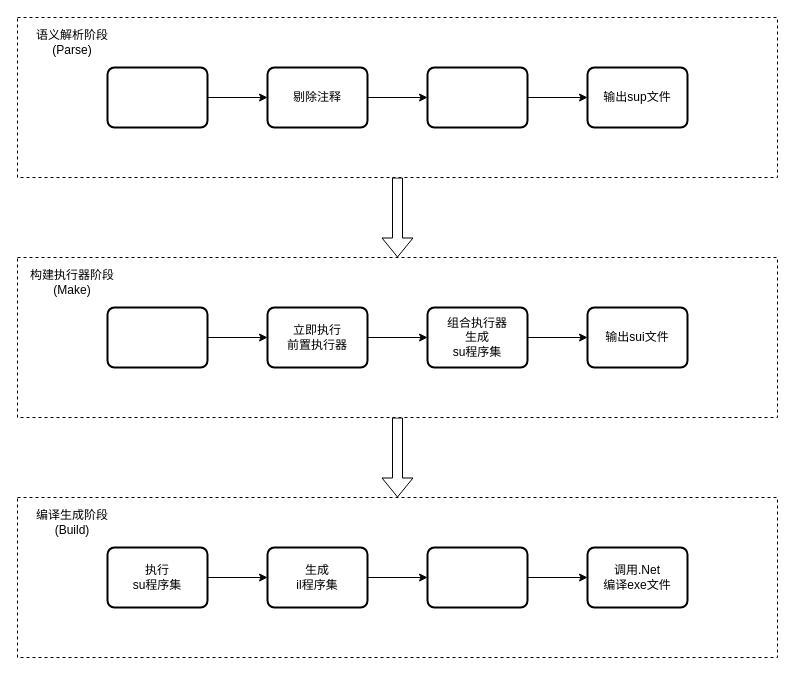
The diagram is 795 pixels wide and 675 high, and some of its shapes have lost their labels. The centre of each missing label's shape, as x and y in pixels:
"拆解语句" goes at pixel 477 97.
"按语句 依次构建 语法执行器" goes at pixel 157 337.
"语法解析" goes at pixel 157 97.
"输出 il项目文件" goes at pixel 477 577.
